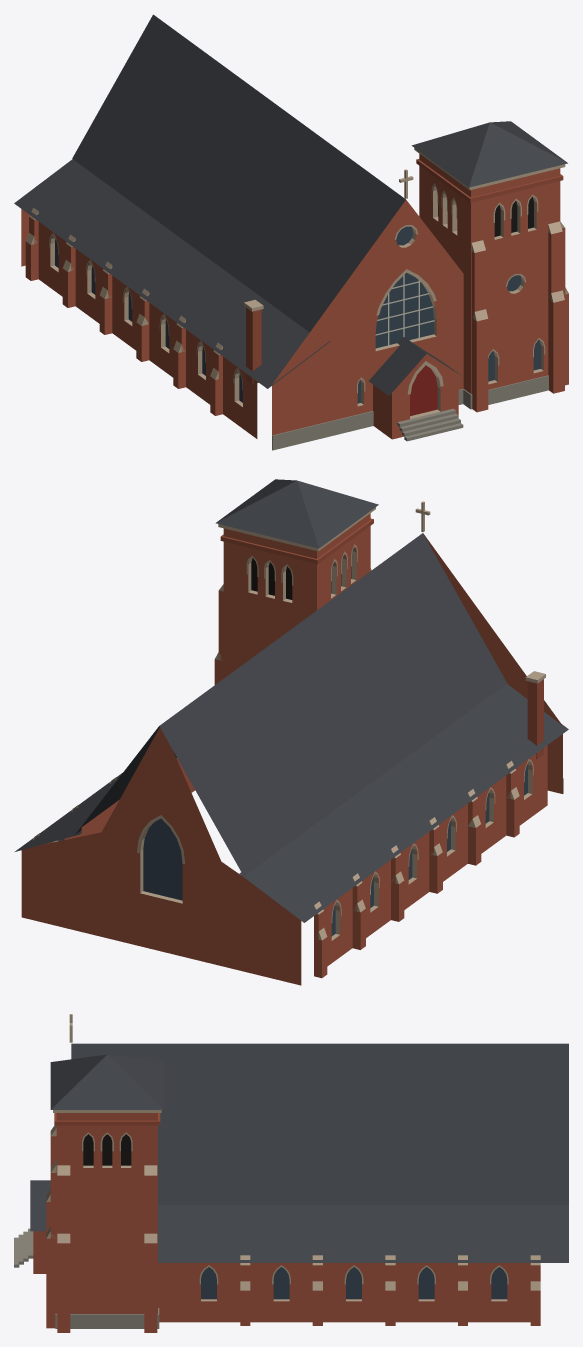
The model's file is trinity-cathedral.glb.
The picture shows the model from 3 angles, top to bottom: view 1: azimuth 30°, elevation 25°; view 2: azimuth 150°, elevation 25°; view 3: azimuth 270°, elevation 25°; orthographic projection. The views are drawn at different scales.
Visible parts, largest first — view 1: trinity_slate, trinity_brick, trinity_trim, trinity_stain, trinity_base, trinity_brick2, trinity_door, trinity_lead, trinity_shadow; view 2: trinity_slate, trinity_brick, trinity_trim, trinity_stain, trinity_brick2, trinity_shadow; view 3: trinity_slate, trinity_brick, trinity_trim, trinity_stain, trinity_base, trinity_shadow, trinity_brick2.
Boxes of the visible parts, x1,y1,x2,y2 form: trinity_slate: [14, 14, 567, 395]; trinity_brick: [21, 154, 568, 439]; trinity_trim: [26, 148, 568, 418]; trinity_stain: [55, 226, 540, 403]; trinity_base: [272, 375, 548, 450]; trinity_brick2: [246, 159, 563, 384]; trinity_door: [410, 365, 437, 416]; trinity_lead: [375, 275, 434, 345]; trinity_shadow: [438, 196, 533, 236]; trinity_slate: [15, 479, 568, 922]; trinity_brick: [21, 513, 562, 985]; trinity_trim: [32, 501, 545, 940]; trinity_stain: [58, 764, 527, 936]; trinity_brick2: [220, 518, 543, 759]; trinity_shadow: [251, 558, 351, 599]; trinity_slate: [30, 1043, 568, 1262]; trinity_brick: [33, 1113, 540, 1332]; trinity_trim: [46, 1014, 540, 1301]; trinity_stain: [201, 1267, 507, 1299]; trinity_base: [14, 1228, 159, 1328]; trinity_shadow: [83, 1134, 131, 1165]; trinity_brick2: [54, 1113, 160, 1125].
Size of the model in its own units: 23.3 by 19.2 by 38.23.
